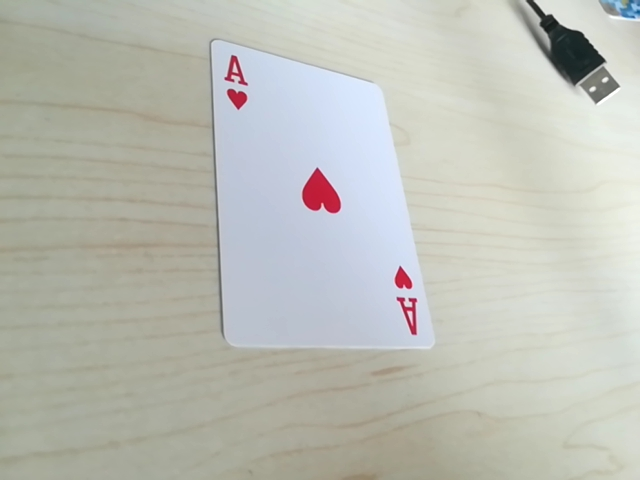hx a: (215, 49, 256, 121), (390, 263, 425, 337)
